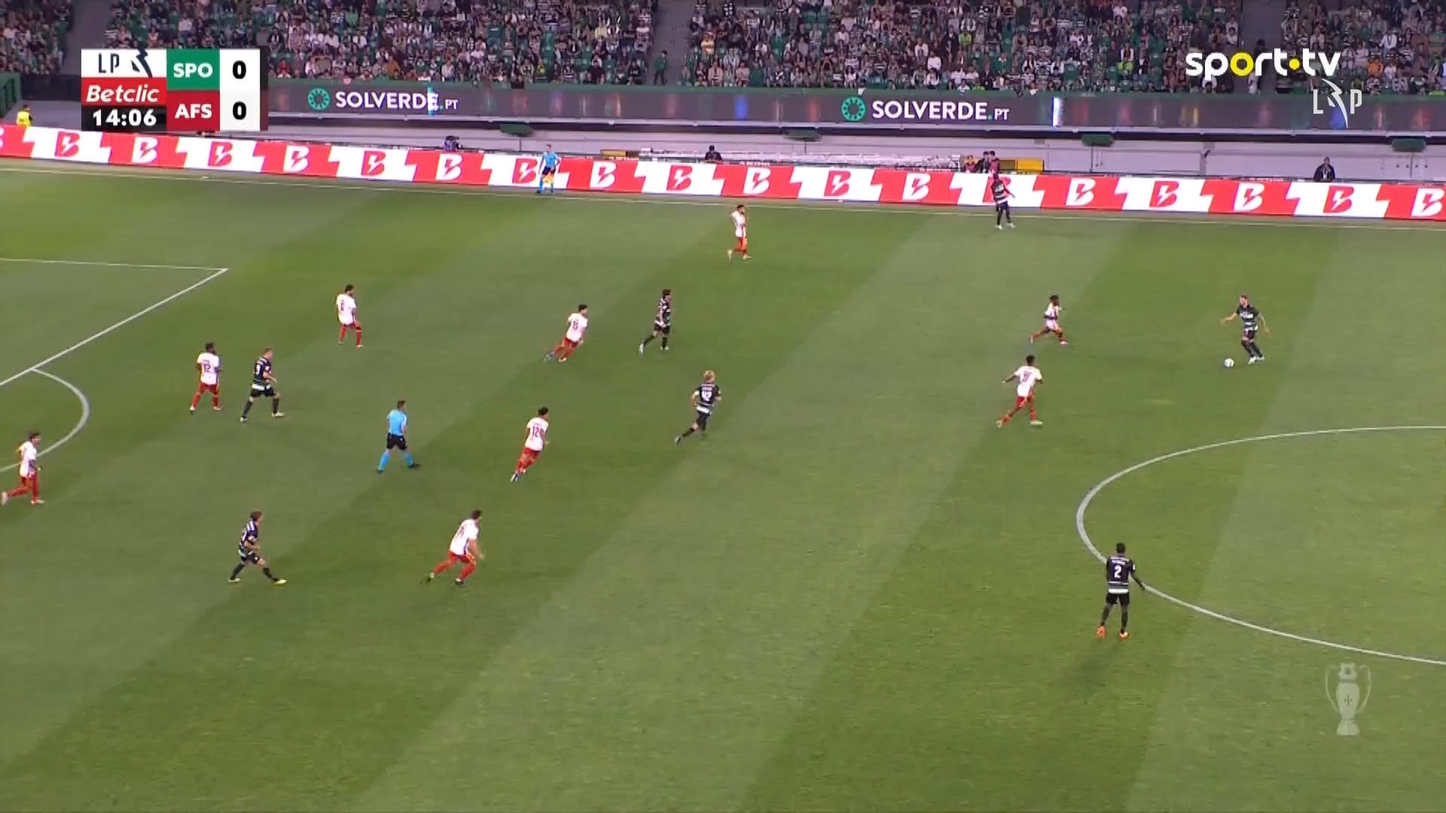ball: (1223, 358, 1234, 367)
player: (423, 507, 485, 588), (1095, 541, 1145, 639), (227, 509, 287, 585), (673, 369, 722, 446), (237, 347, 285, 423), (995, 354, 1044, 428), (1219, 293, 1270, 364), (0, 430, 45, 506), (508, 406, 551, 483), (541, 303, 588, 364), (188, 341, 223, 414), (637, 288, 673, 355), (1029, 294, 1068, 346), (334, 283, 363, 349), (988, 171, 1015, 230), (726, 202, 752, 260)
referee: (375, 398, 420, 473), (535, 142, 560, 195)
